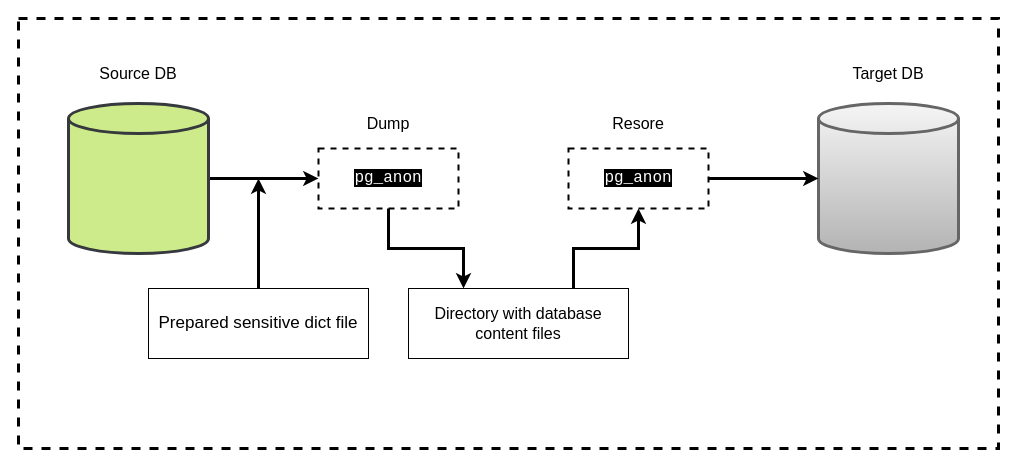
Some shapes in this 1017 by 467 pixel diagram are drawn without their labels. Here are the shapes that lost their labels. From the top down, the centre of each, then its label:
At (138,178): "Contains data".
At (888,178): "Empty".
